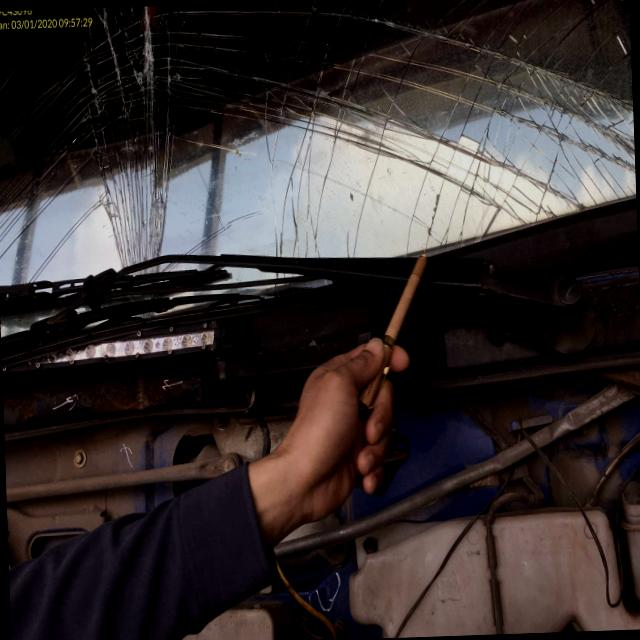Fissure: (0, 8, 93, 272), (83, 5, 167, 271), (156, 14, 190, 132)
